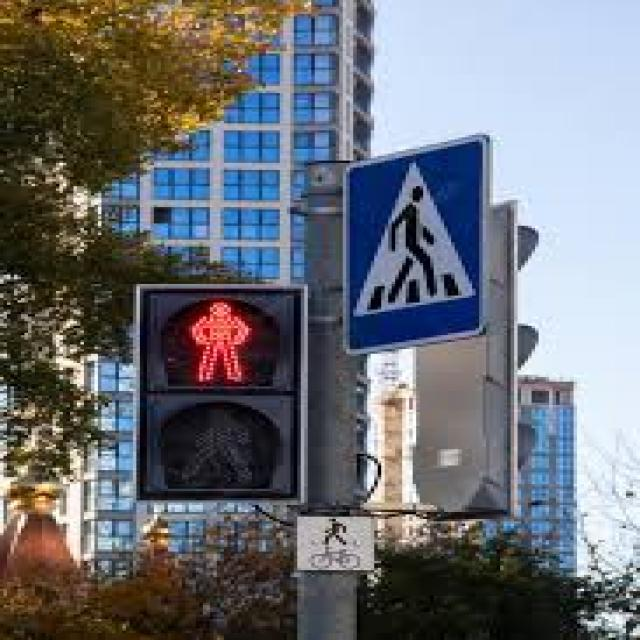Not go: (126, 277, 327, 508), (147, 288, 303, 388)
